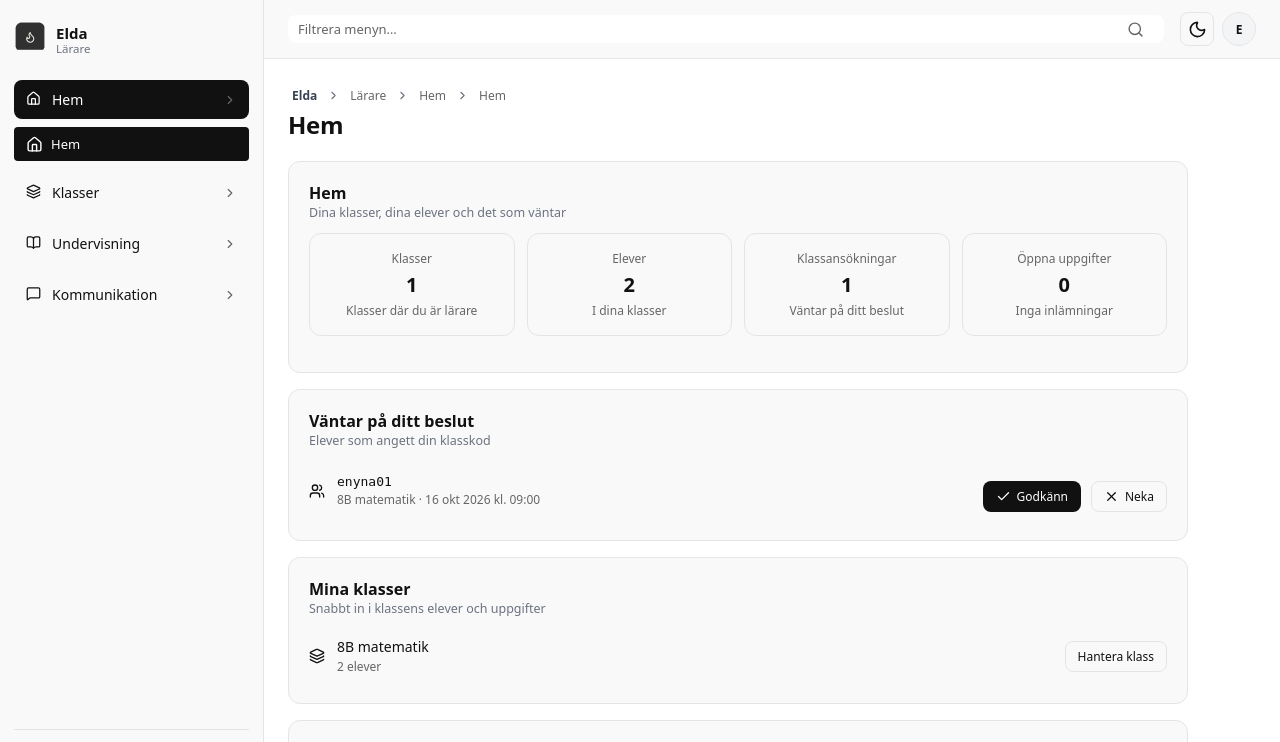
it: lärarens panel och rollstyrning › visar lärarens menyval — och inga administratörslänkar
The image size is (1280, 742).
Expected: the 1st text "Klasser" is shown, [52, 183, 99, 202]
Click the button "Klasser": (132, 192) [14, 173, 249, 212]
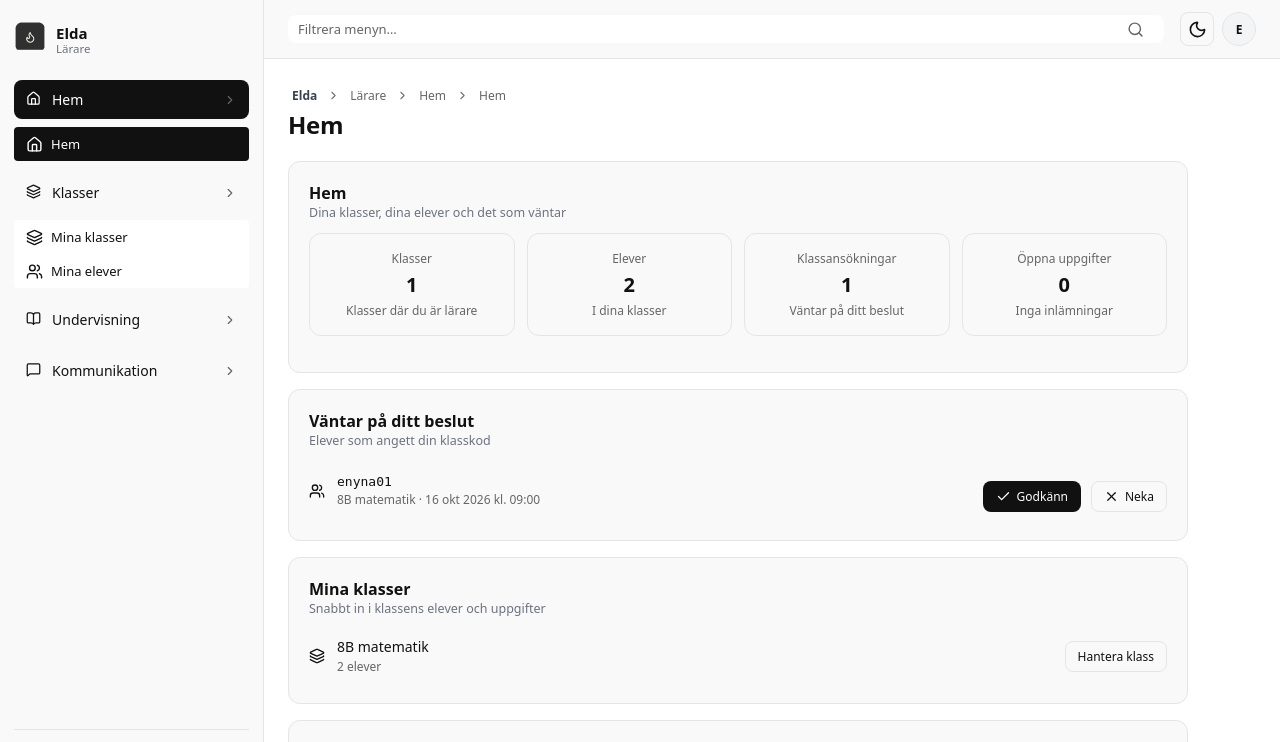
Result: the 1st text "Mina klasser" is shown at [51, 228, 128, 246]
Result: the 1st text "Mina elever" is shown at [51, 262, 122, 280]
